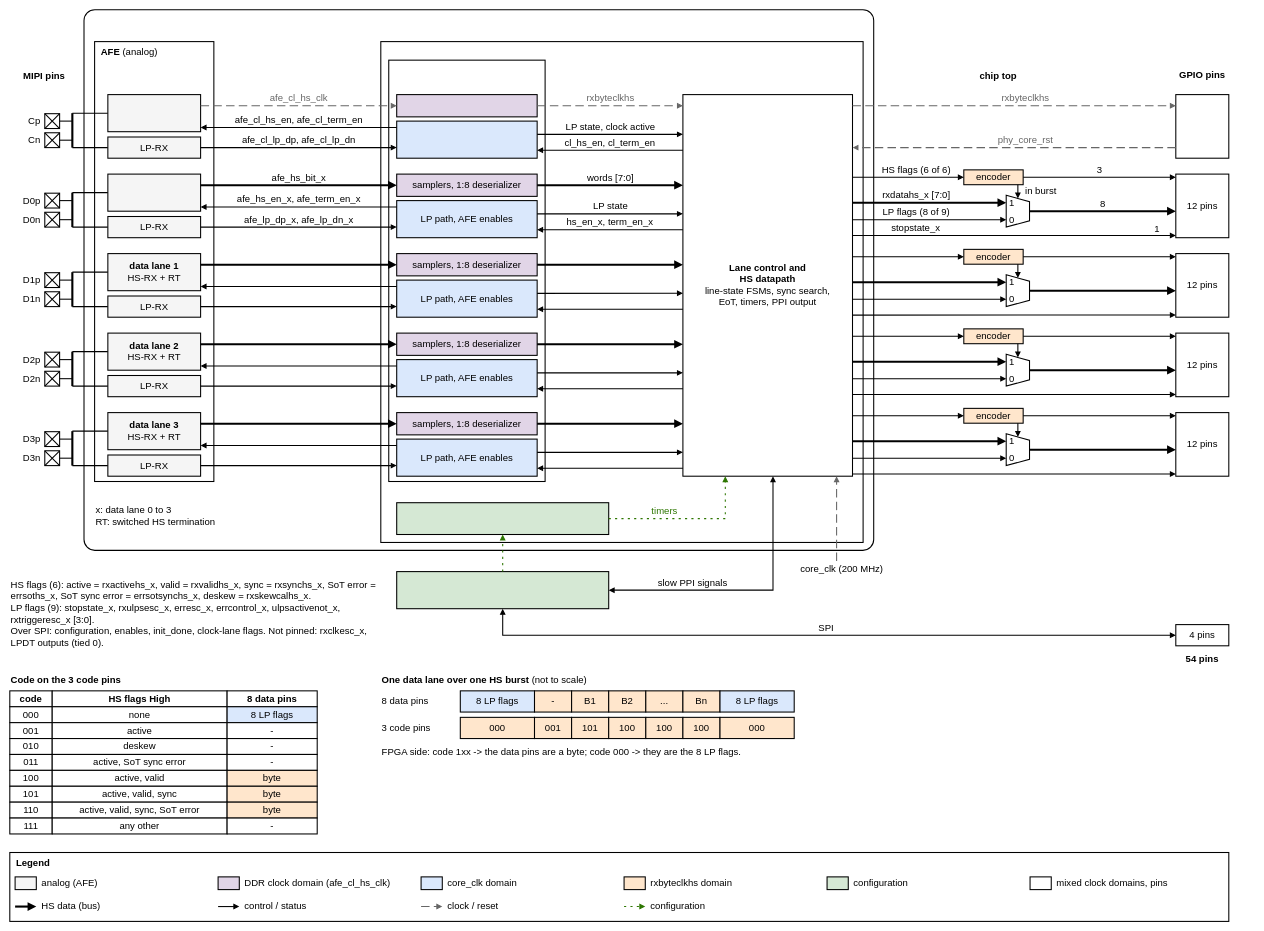
The diagram is 1264 pixels wide and 931 high, and some of its shapes have lost their labels. Each missing label, with the box of its shape:
2 pins: (1175, 94, 1229, 158)
AFE Adapter: (388, 59, 545, 482)
byte clock, /4: (396, 94, 537, 117)
clock lane HS-RX + RT: (107, 94, 201, 132)
Configuration & Status: (396, 502, 609, 535)
D-PHY RX top, GPIO option 4 -- 54 pins at 50 MHz, up to 400 Mb/s per lane: (83, 9, 874, 551)
data lane 0 HS-RX + RT: (107, 173, 201, 211)
ftel_dphy_rx (digital D-PHY): (380, 41, 863, 543)
LP path, clock activity, AFE enables: (396, 120, 537, 158)
SPI slave + registers (chip top) configuration, enables, slow PPI flags: (396, 571, 609, 609)
